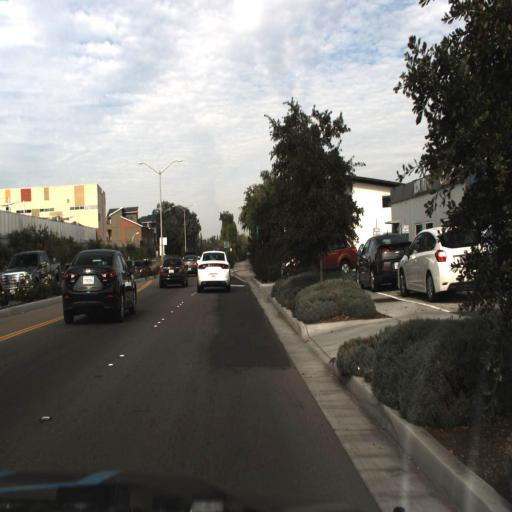car: (396, 226, 502, 300), (398, 223, 486, 302), (60, 248, 137, 328), (0, 246, 58, 310), (356, 230, 414, 294), (282, 236, 362, 278), (0, 249, 61, 304), (195, 246, 231, 294), (157, 254, 188, 292)
